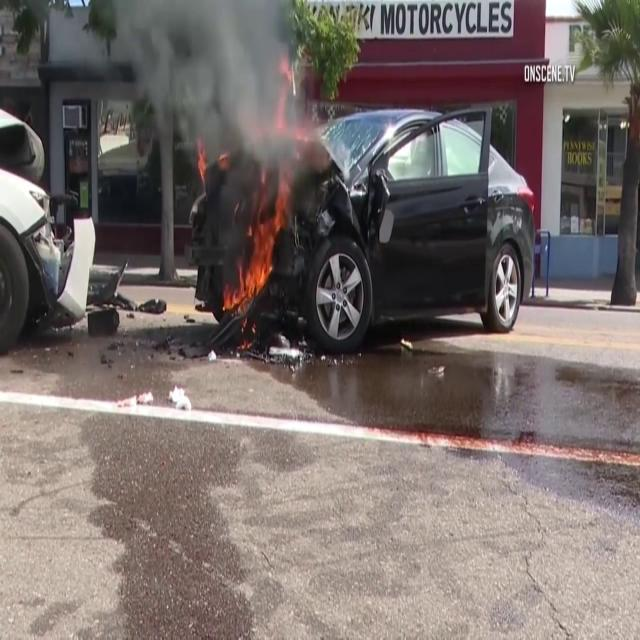Fire: (224, 213, 280, 322)
Smoke: (110, 0, 332, 189)
